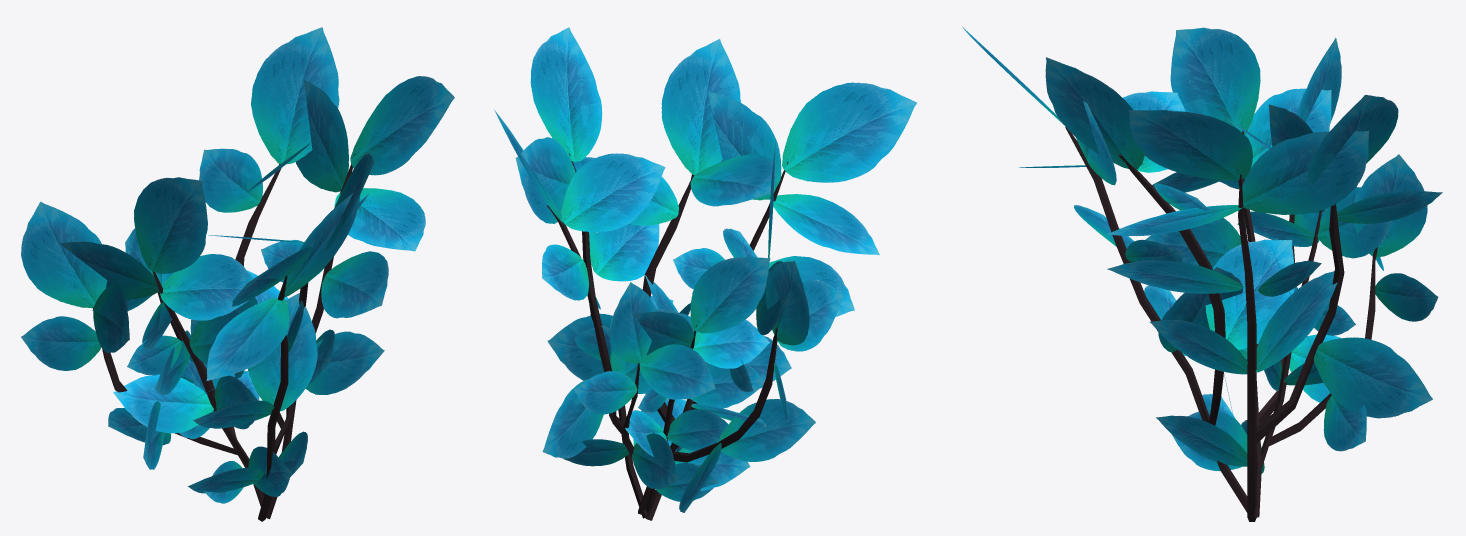
Rendered from bluebush3.fbx.
3 renders of one model, left to right at view 1: azimuth 30°, elevation 25°; view 2: azimuth 150°, elevation 25°; view 3: azimuth 270°, elevation 25°, orthographic. The views are drawn at different scales.
Visible parts, largest first — view 1: pCylinder1062; view 2: pCylinder1062; view 3: pCylinder1062.
Boxes of the visible parts, x1,y1,x2,y2 form: pCylinder1062: [21, 27, 454, 521]; pCylinder1062: [494, 27, 916, 520]; pCylinder1062: [962, 27, 1442, 521].
Bounding box in the file's own units: 5.26 × 6.26 × 5.71.
